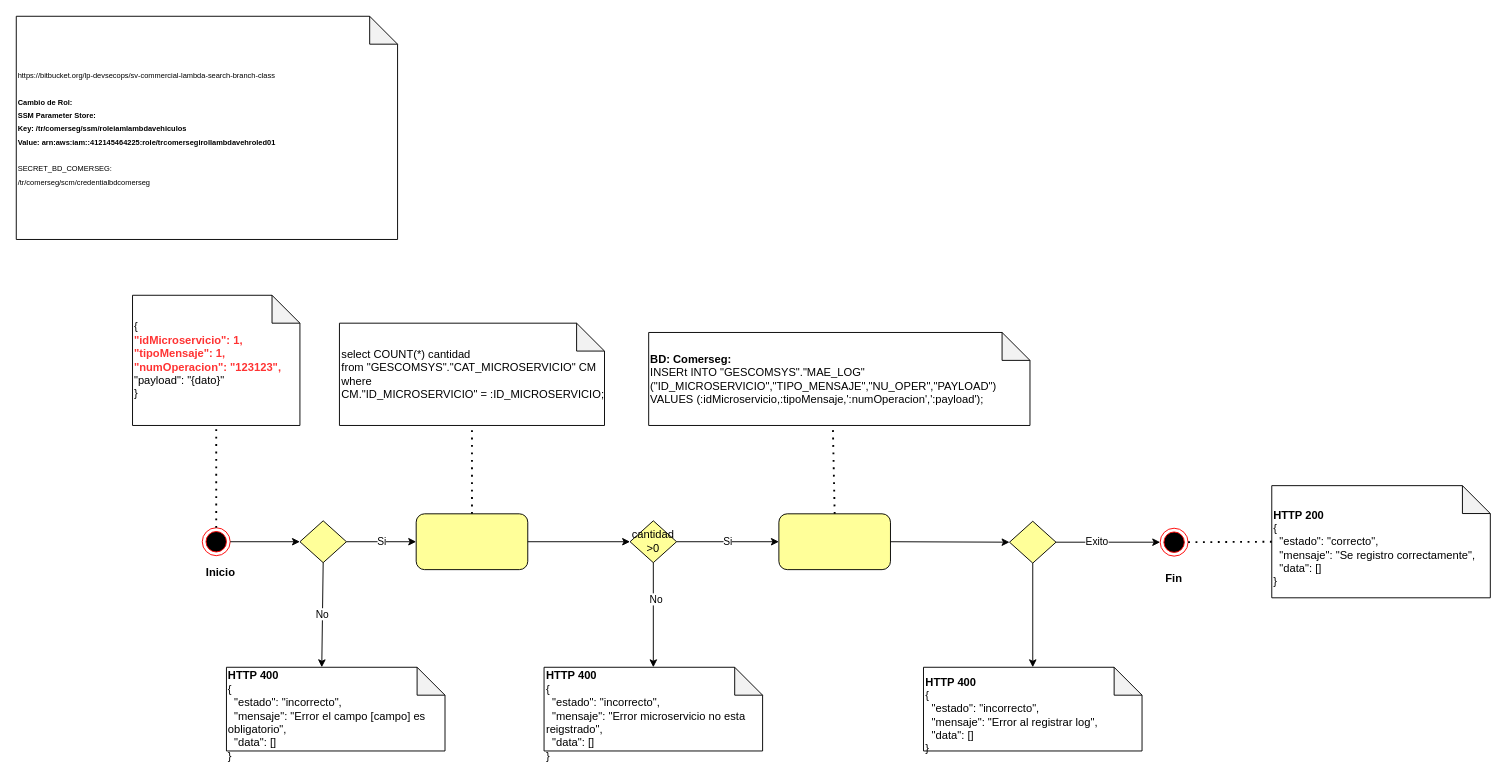
This 1507x778 diagram has some shape labels left out. The centre of each missing label's shape, as x and y in pixels:
Consulta identificador de microservicio: point 471,541
Registra log: point 834,541
resultado: point 1032,541
Valida campos obligatorios: point 322,541
